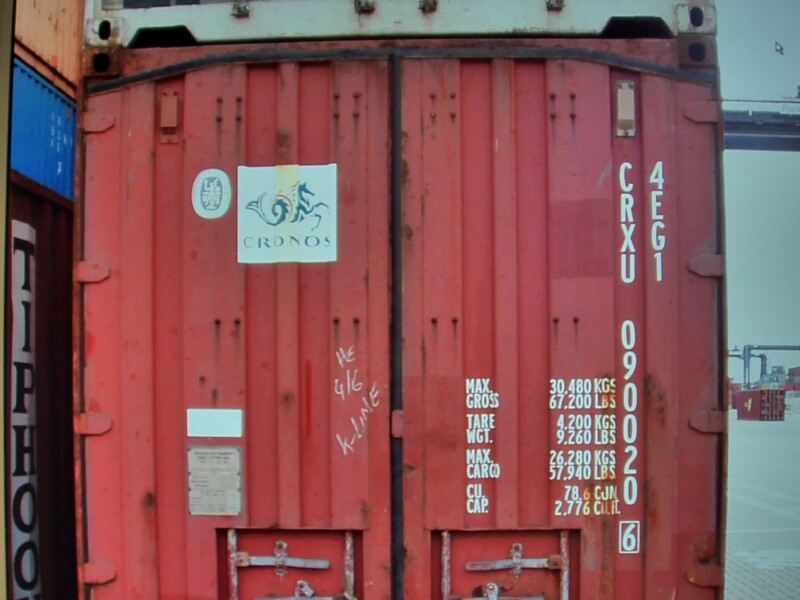container_door: (81, 41, 728, 594)
